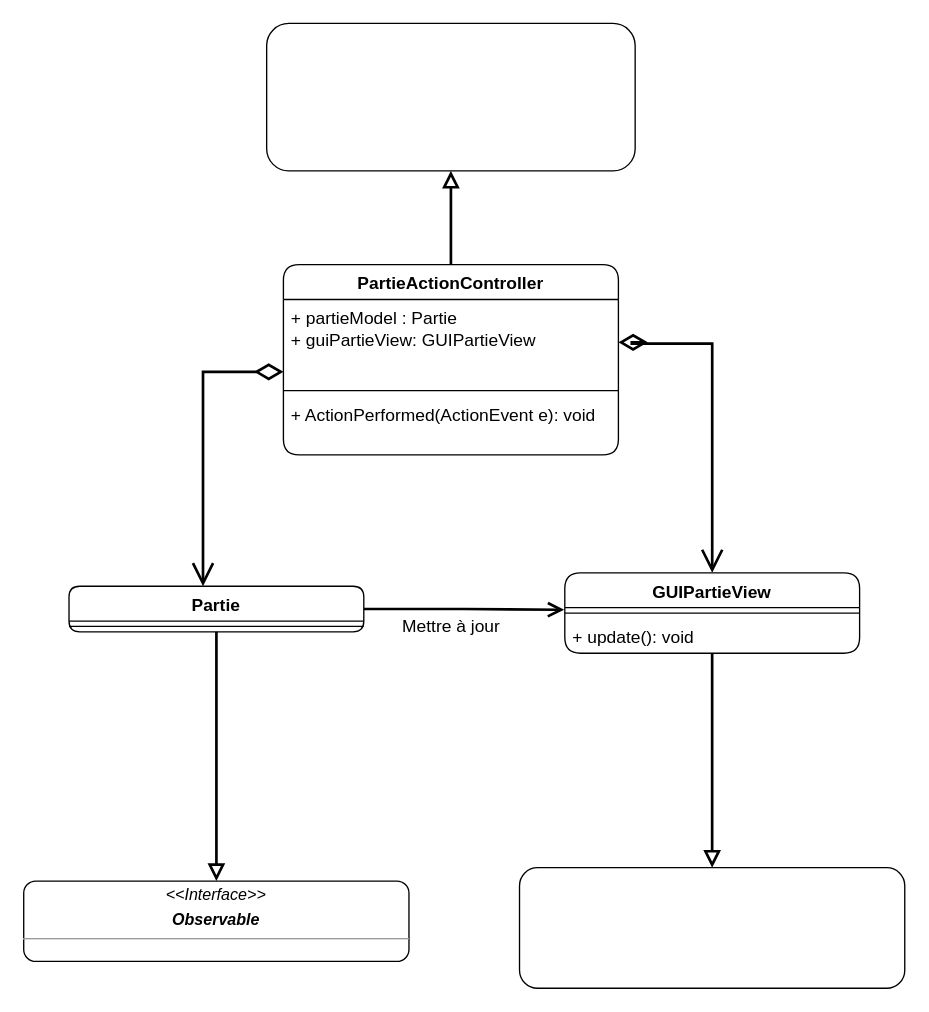
This 929x1012 diagram has some shape labels left out. The centre of each missing label's shape, as x and y in pixels:
<<Interface>> Action Listener + ActionPerformed(ActionEvent e): void: [450,96]
<<Interface>> Observer + update(Observable o, Objet arg): void: [711,927]
